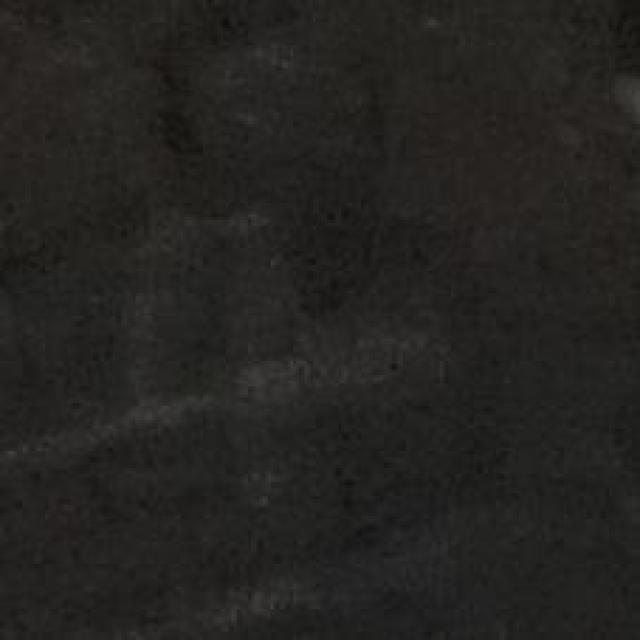Crack: (3, 0, 432, 458)
